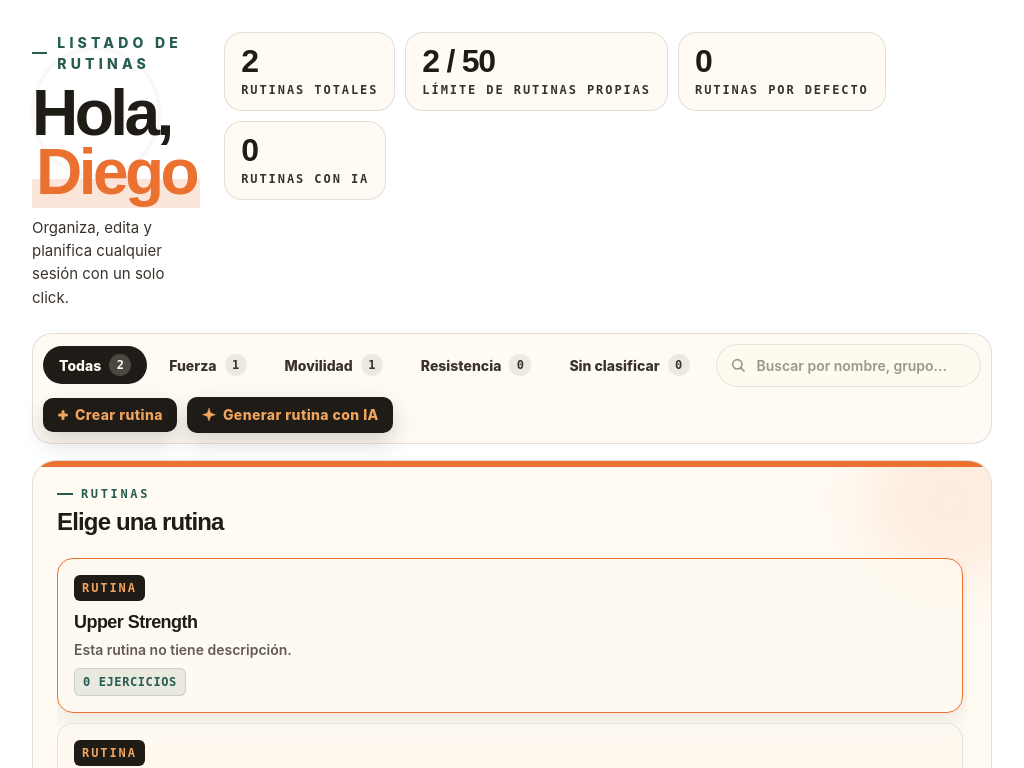
Test case: UserRoutinesPage › filtra las rutinas por tipo
What coordinates should you click on to do the following:
click the button "Movilidad 1"
I would click on:
 (334, 365)
Its box is [268,346,399,384].
(page scrolled)
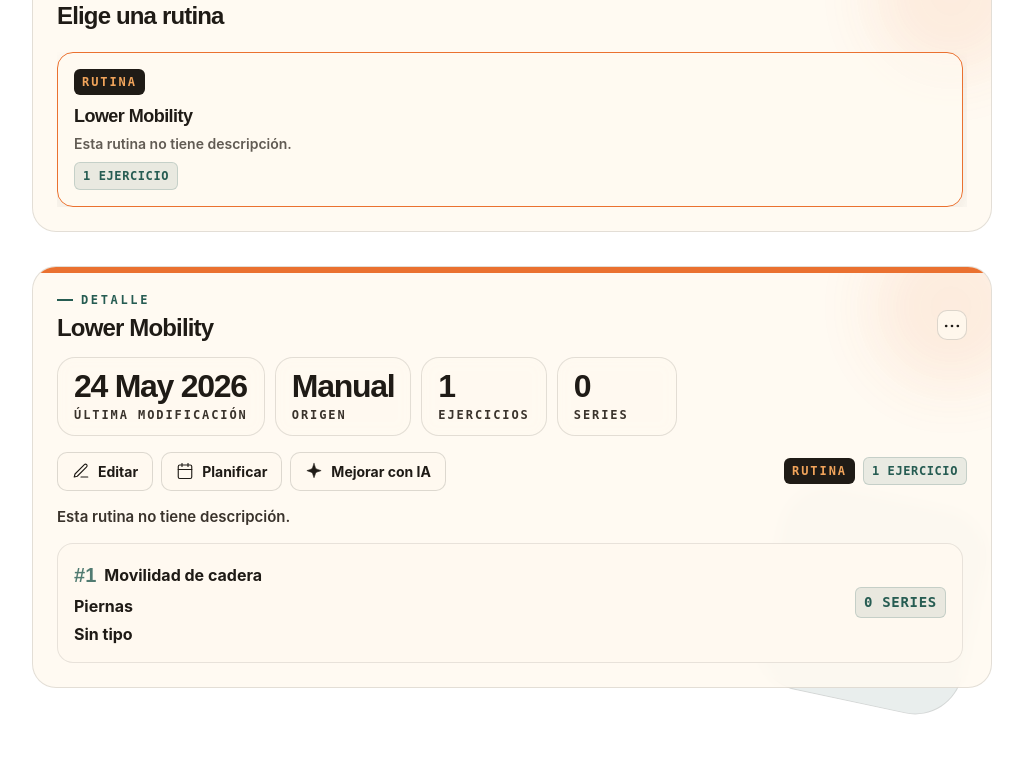
Now the text "Movilidad de cadera" is shown, box [104,563,262,587]
Now the heading "Upper Strength" is gone
